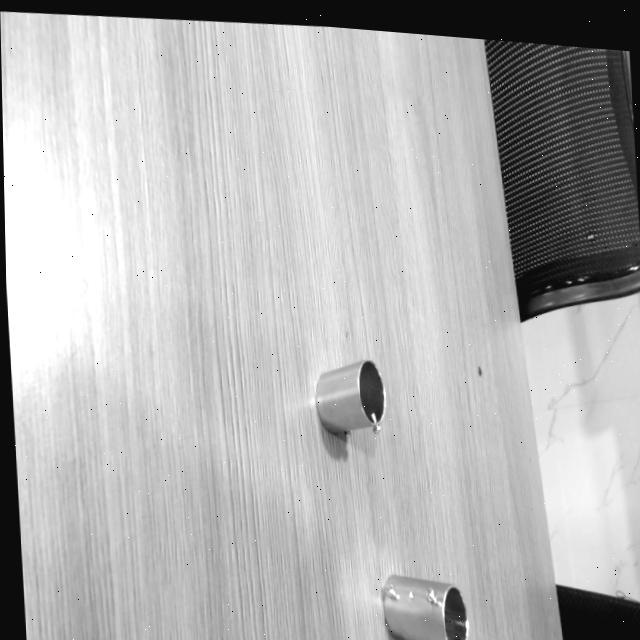Co_Lon: (381, 575, 467, 640)
Co_Nho: (310, 358, 388, 437)
